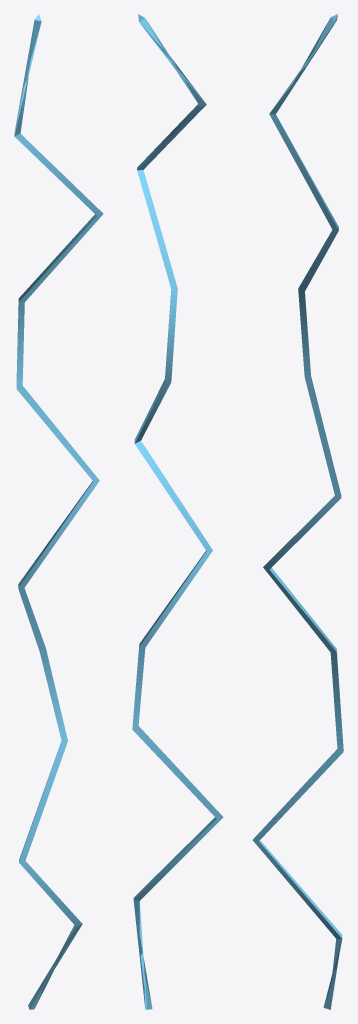
Rendered from fxlib-flicker.glb.
3 views of the same model, side by side, from view 1: azimuth 30°, elevation 25°; view 2: azimuth 150°, elevation 25°; view 3: azimuth 330°, elevation 25° (orthographic).
Visible parts, largest first — view 1: Bolt; view 2: Bolt; view 3: Bolt.
Boxes of the visible parts, left/top/right/bottom form: Bolt: left=14, top=14, right=103, bottom=1009; Bolt: left=132, top=14, right=223, bottom=1009; Bolt: left=252, top=14, right=343, bottom=1009.
Bounding box in the file's own units: 0.0635 × 0.7049 × 0.0433.
